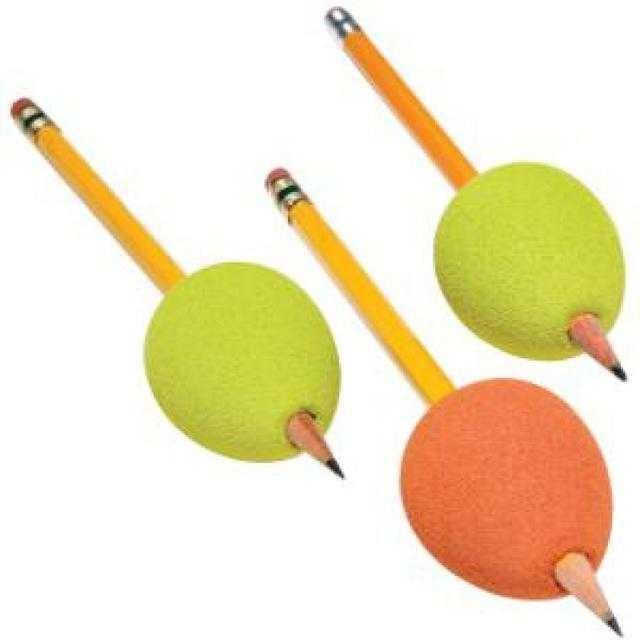pencil: (246, 152, 639, 639), (0, 78, 354, 494), (302, 0, 636, 413)
